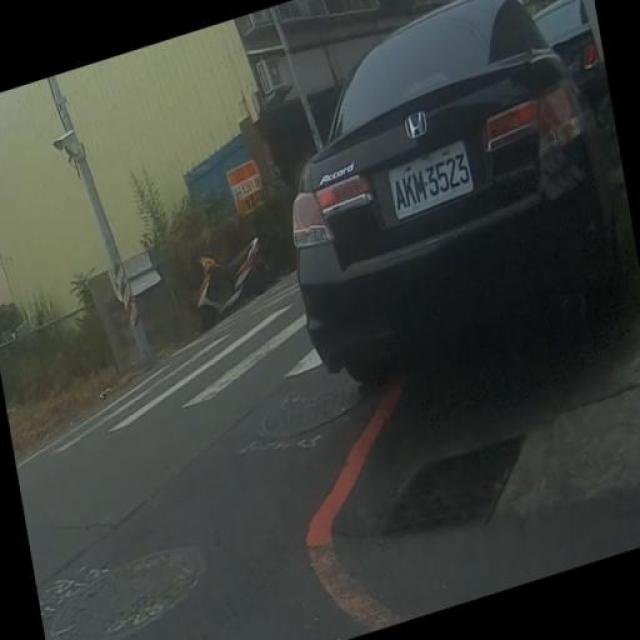illegalparking: (265, 9, 615, 446)
